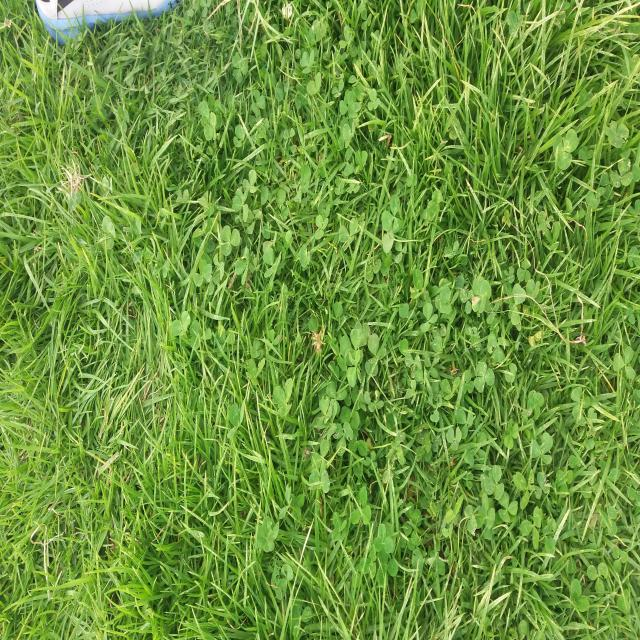Four Leaf Clover: (278, 439, 322, 501), (472, 275, 492, 313)
